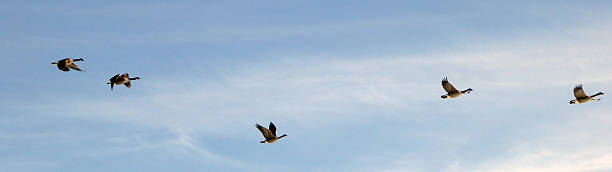goose: (438, 75, 474, 103), (567, 83, 605, 109), (47, 54, 88, 77), (253, 120, 289, 146), (102, 71, 142, 91)
